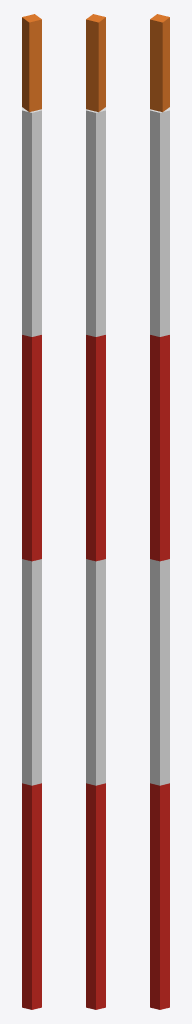
Rendered from f150_whip.obj.
3 renders of one model, left to right at view 1: azimuth 30°, elevation 25°; view 2: azimuth 150°, elevation 25°; view 3: azimuth 330°, elevation 25°, orthographic.
Visible parts, largest first — view 1: f150_whip; view 2: f150_whip; view 3: f150_whip.
Part boxes in pixels (box(x1,y1,x2,y2)): f150_whip: box(22, 14, 41, 1009); f150_whip: box(86, 14, 105, 1009); f150_whip: box(150, 14, 169, 1009).
Bounding box in the file's own units: 0.07 × 3.3 × 0.0606.
